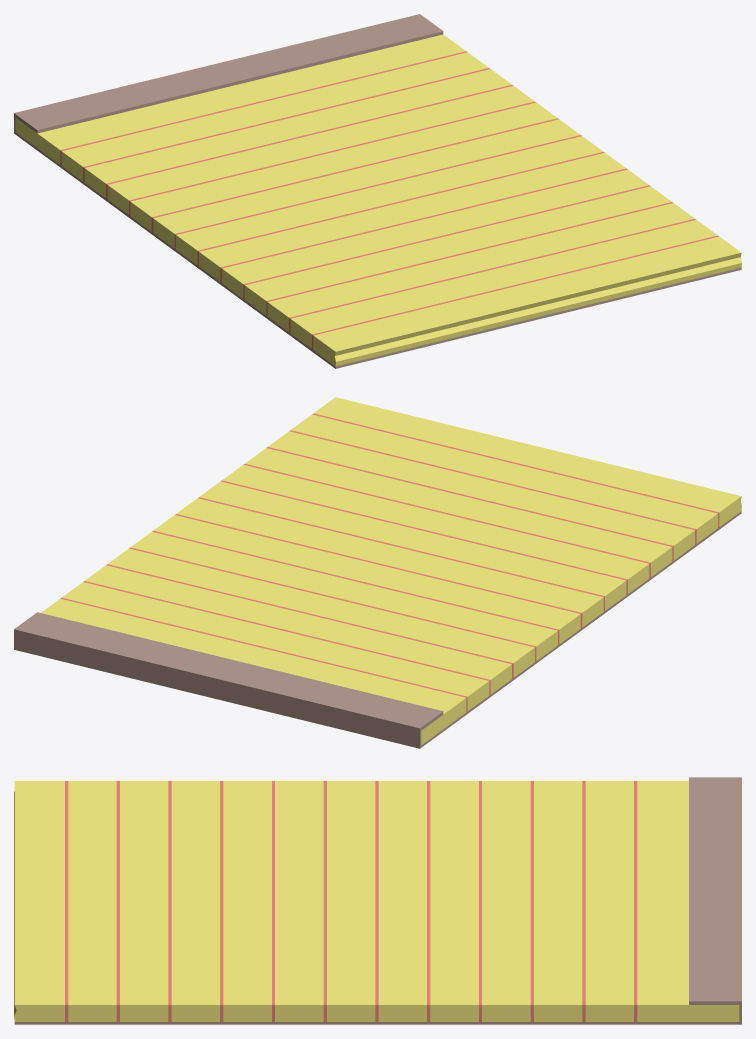
Rendered from notebook.glb.
The picture shows the model from 3 angles, top to bottom: view 1: azimuth 30°, elevation 25°; view 2: azimuth 150°, elevation 25°; view 3: azimuth 270°, elevation 25°; orthographic projection. The views are drawn at different scales.
Parts seen in each view (by area): view 1: Notebook_Cube.041; view 2: Notebook_Cube.041; view 3: Notebook_Cube.041.
Part boxes in pixels (x1=…): Notebook_Cube.041: x1=14, y1=14, x2=741, y2=368; Notebook_Cube.041: x1=14, y1=397, x2=741, y2=748; Notebook_Cube.041: x1=14, y1=777, x2=741, y2=1024.
Size of the model in its own units: 7.18 by 0.3456 by 9.86.
